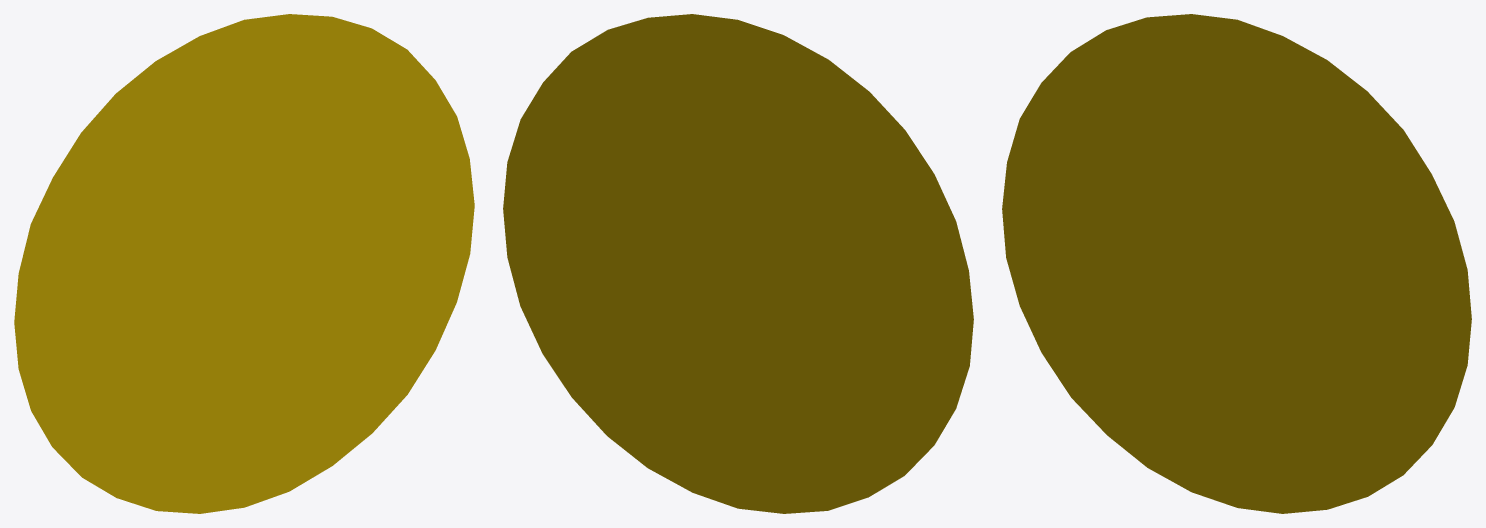
The model's file is original-11.obj.
3 renders of one model, left to right at view 1: azimuth 30°, elevation 25°; view 2: azimuth 150°, elevation 25°; view 3: azimuth 330°, elevation 25°, orthographic.
Parts seen in each view (by area): view 1: mesh9/mesh9-geometry#mesh9-geometry; view 2: mesh9/mesh9-geometry#mesh9-geometry; view 3: mesh9/mesh9-geometry#mesh9-geometry.
Part boxes in pixels (x1,y1,x2,y2): mesh9/mesh9-geometry#mesh9-geometry: (14, 14, 474, 513); mesh9/mesh9-geometry#mesh9-geometry: (503, 14, 973, 513); mesh9/mesh9-geometry#mesh9-geometry: (1002, 14, 1471, 513).
Bounding box in the file's own units: 0.0904 × 0.0906 × 0.00168.
